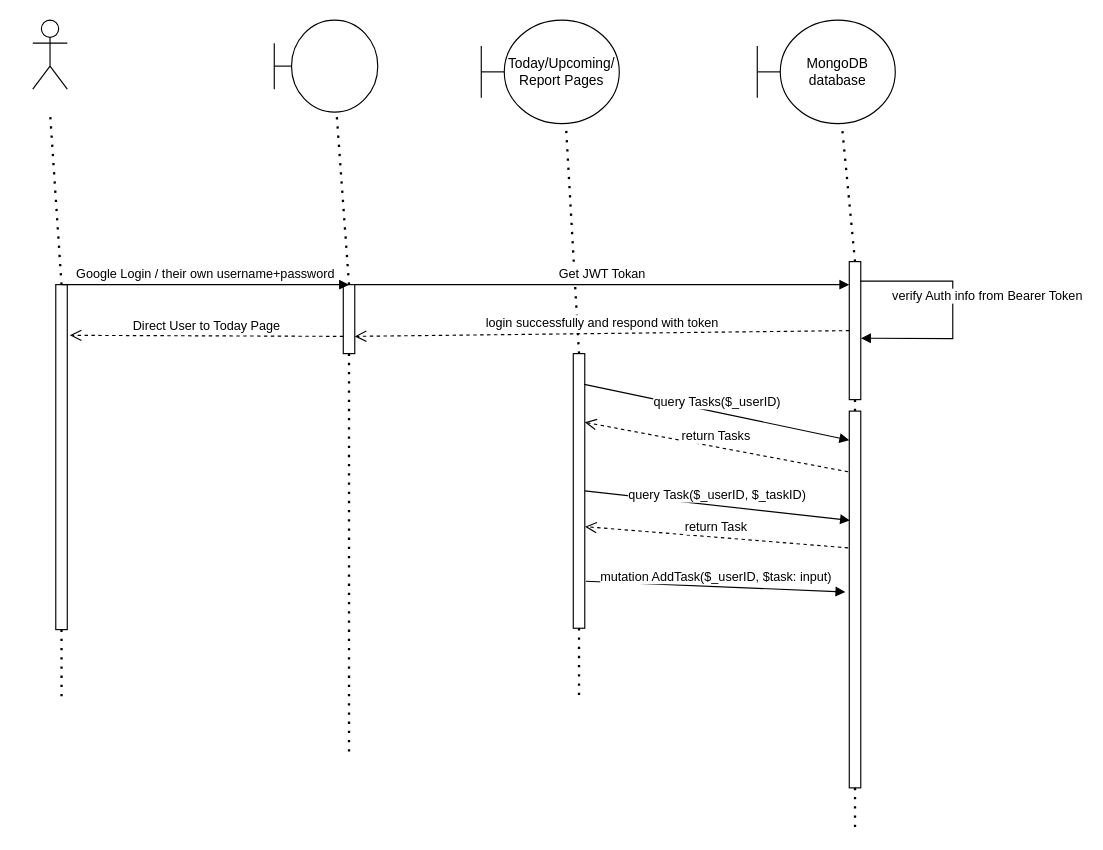
Image size: 1103x850. Some labels were removed from this diagram. The shapes that lost their labels are listed below. From the top down, each one's centre as x and y in pixels, then its label:
(x=49, y=54): Customer
(x=325, y=65): Authentication Page
